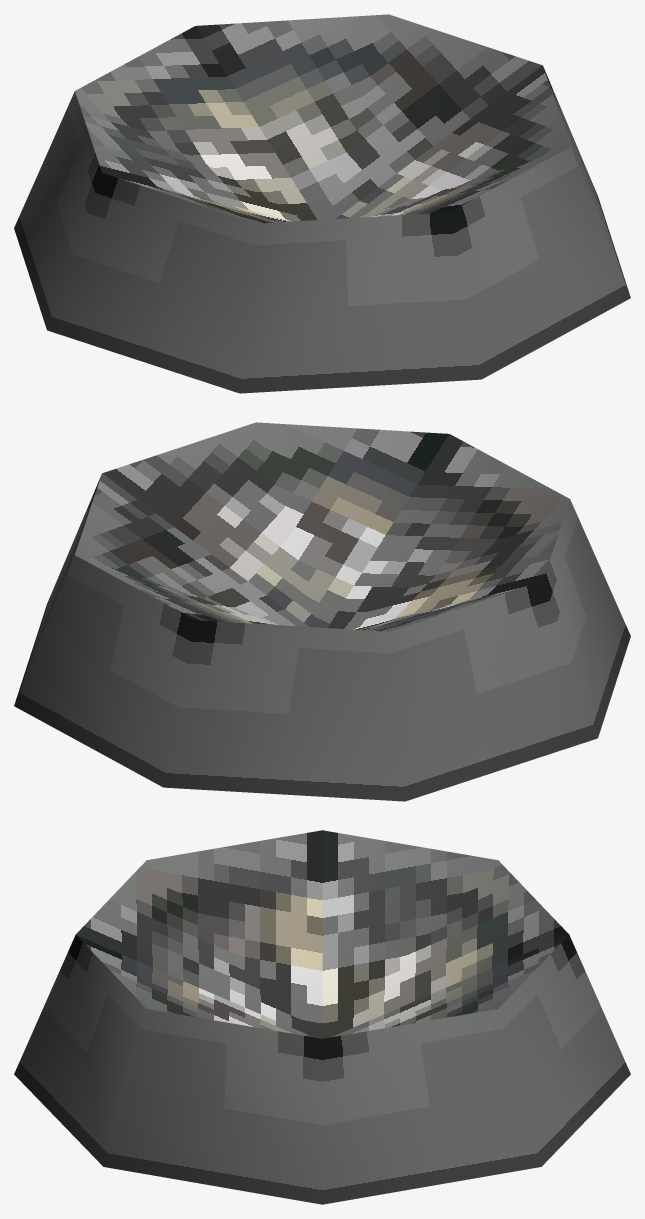
File: AshTray.glb
The picture shows the model from 3 angles, top to bottom: view 1: azimuth 30°, elevation 25°; view 2: azimuth 150°, elevation 25°; view 3: azimuth 270°, elevation 25°; orthographic projection. The views are drawn at different scales.
Visible parts, largest first — view 1: ASHTRAY; view 2: ASHTRAY; view 3: ASHTRAY.
Part boxes in pixels (x1=…): ASHTRAY: x1=14, y1=14, x2=630, y2=393; ASHTRAY: x1=14, y1=422, x2=630, y2=801; ASHTRAY: x1=14, y1=830, x2=630, y2=1204.
Bounding box in the file's own units: 0.2 × 0.05 × 0.2.
Materials: 1 (1 with a texture image).
